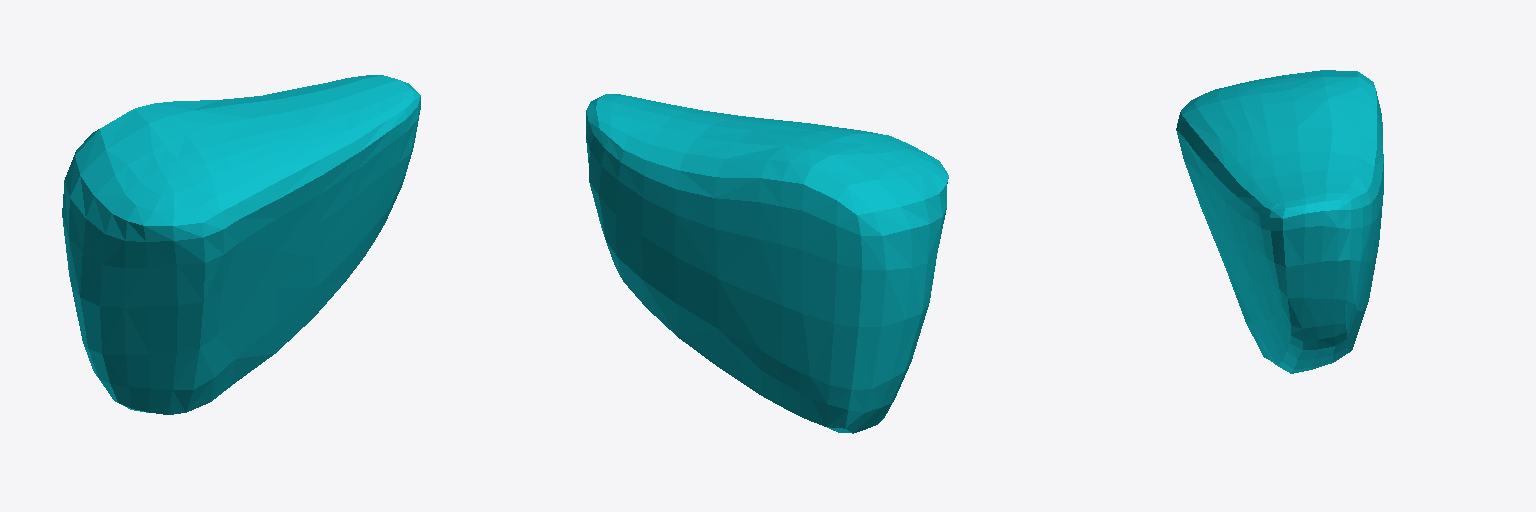
File: L_Toe.obj
The picture shows the model from 3 angles: view 1: azimuth 30°, elevation 25°; view 2: azimuth 150°, elevation 25°; view 3: azimuth 270°, elevation 25°; orthographic projection.
Visible parts, largest first — view 1: L_Toe_Alpha_Surface; view 2: L_Toe_Alpha_Surface; view 3: L_Toe_Alpha_Surface.
Part boxes in pixels (x1,y1,x2,y2): L_Toe_Alpha_Surface: (62,75,420,414); L_Toe_Alpha_Surface: (586,94,948,433); L_Toe_Alpha_Surface: (1176,70,1383,373).
Size of the model in its own units: 0.1065 by 0.085 by 0.0576.